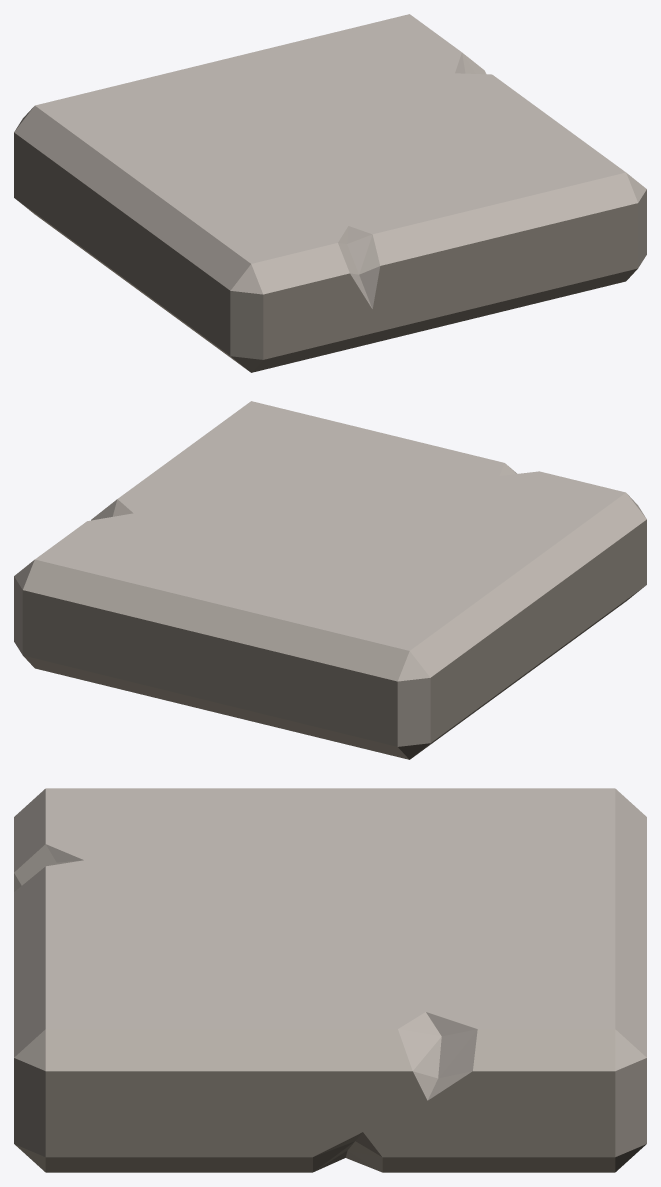
File: m_kub_stone_flatPlate.FBX
The picture shows the model from 3 angles, top to bottom: view 1: azimuth 30°, elevation 25°; view 2: azimuth 150°, elevation 25°; view 3: azimuth 270°, elevation 25°; orthographic projection. The views are drawn at different scales.
Parts seen in each view (by area): view 1: m_kub_stone_flatPlate; view 2: m_kub_stone_flatPlate; view 3: m_kub_stone_flatPlate.
Boxes of the visible parts, x1,y1,x2,y2 form: m_kub_stone_flatPlate: (14, 14, 646, 372); m_kub_stone_flatPlate: (14, 401, 646, 759); m_kub_stone_flatPlate: (14, 788, 646, 1172).
Bounding box in the file's own units: 2 × 0.5 × 2.
